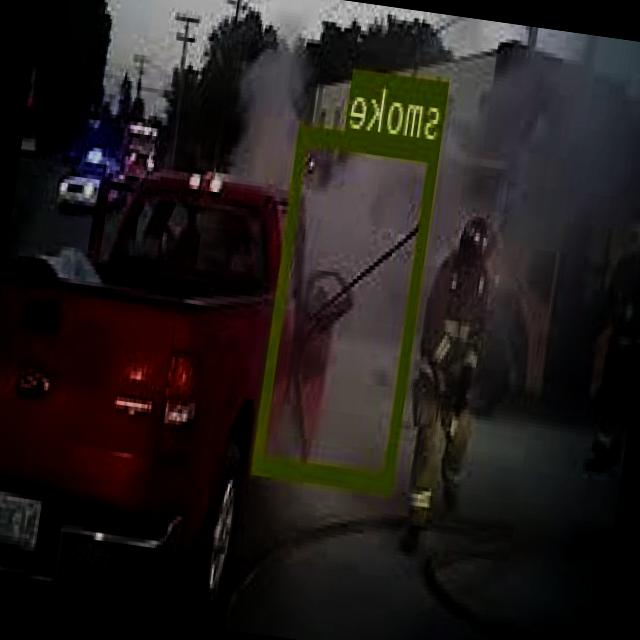smoke: (255, 122, 442, 487)
